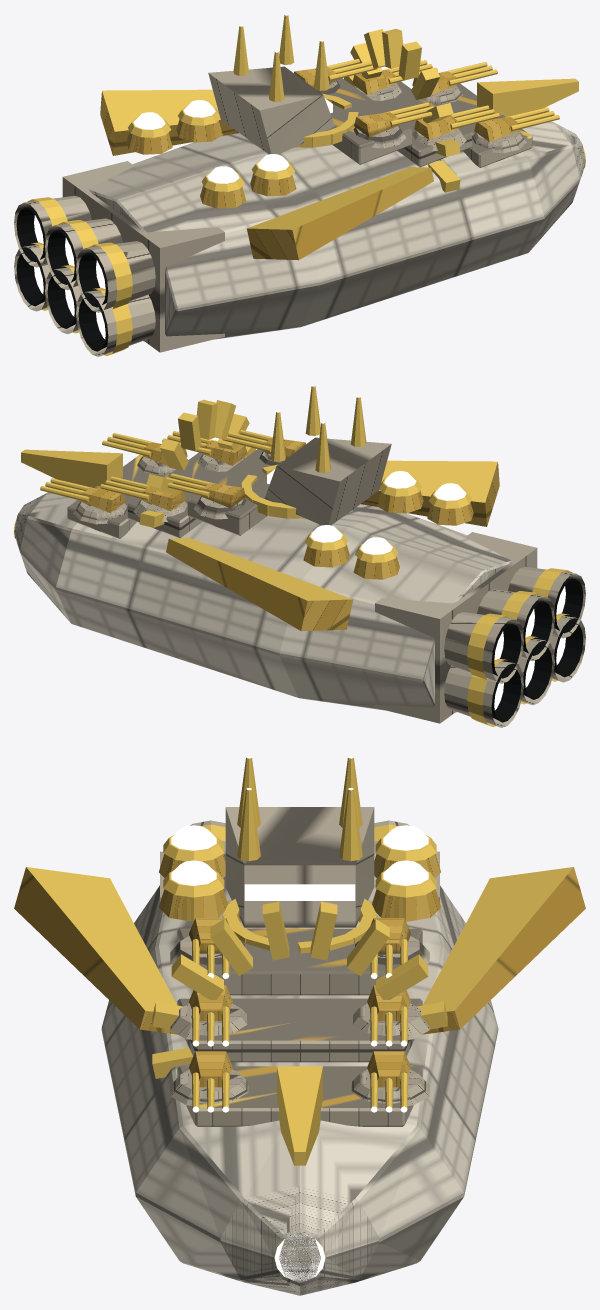
Rendered from dreadnought.glb.
The picture shows the model from 3 angles, top to bottom: view 1: azimuth 30°, elevation 25°; view 2: azimuth 150°, elevation 25°; view 3: azimuth 270°, elevation 25°; orthographic projection. The views are drawn at different scales.
Visible parts, largest first — view 1: hull_body, engine_block, sensor_tower, weapon_turrets, shield_domes; view 2: hull_body, engine_block, sensor_tower, weapon_turrets, shield_domes; view 3: hull_body, sensor_tower, weapon_turrets, shield_domes, engine_block.
Part boxes in pixels (bbox=[...]): hull_body: bbox=[88, 28, 585, 341]; engine_block: bbox=[14, 161, 224, 356]; sensor_tower: bbox=[208, 14, 358, 154]; weapon_turrets: bbox=[294, 59, 585, 168]; shield_domes: bbox=[126, 100, 296, 208]; hull_body: bbox=[14, 399, 511, 712]; engine_block: bbox=[375, 532, 585, 727]; sensor_tower: bbox=[241, 385, 391, 525]; weapon_turrets: bbox=[14, 430, 305, 539]; shield_domes: bbox=[303, 471, 473, 579]; hull_body: bbox=[14, 854, 585, 1295]; sensor_tower: bbox=[222, 756, 377, 953]; weapon_turrets: bbox=[170, 918, 429, 1280]; shield_domes: bbox=[158, 825, 441, 921]; engine_block: bbox=[160, 820, 439, 902].
Size of the model in its own units: 80 by 39.96 by 53.38.
Materials: 1 (1 with a texture image).
